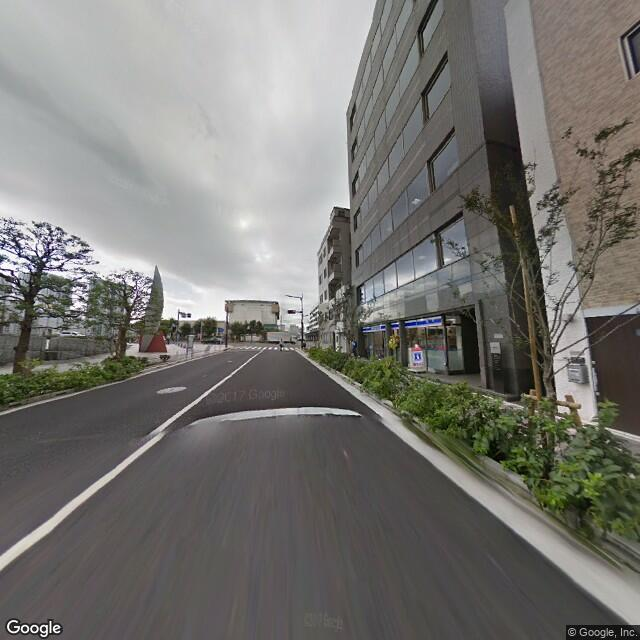lawson: (358, 310, 447, 336), (406, 345, 425, 366)
